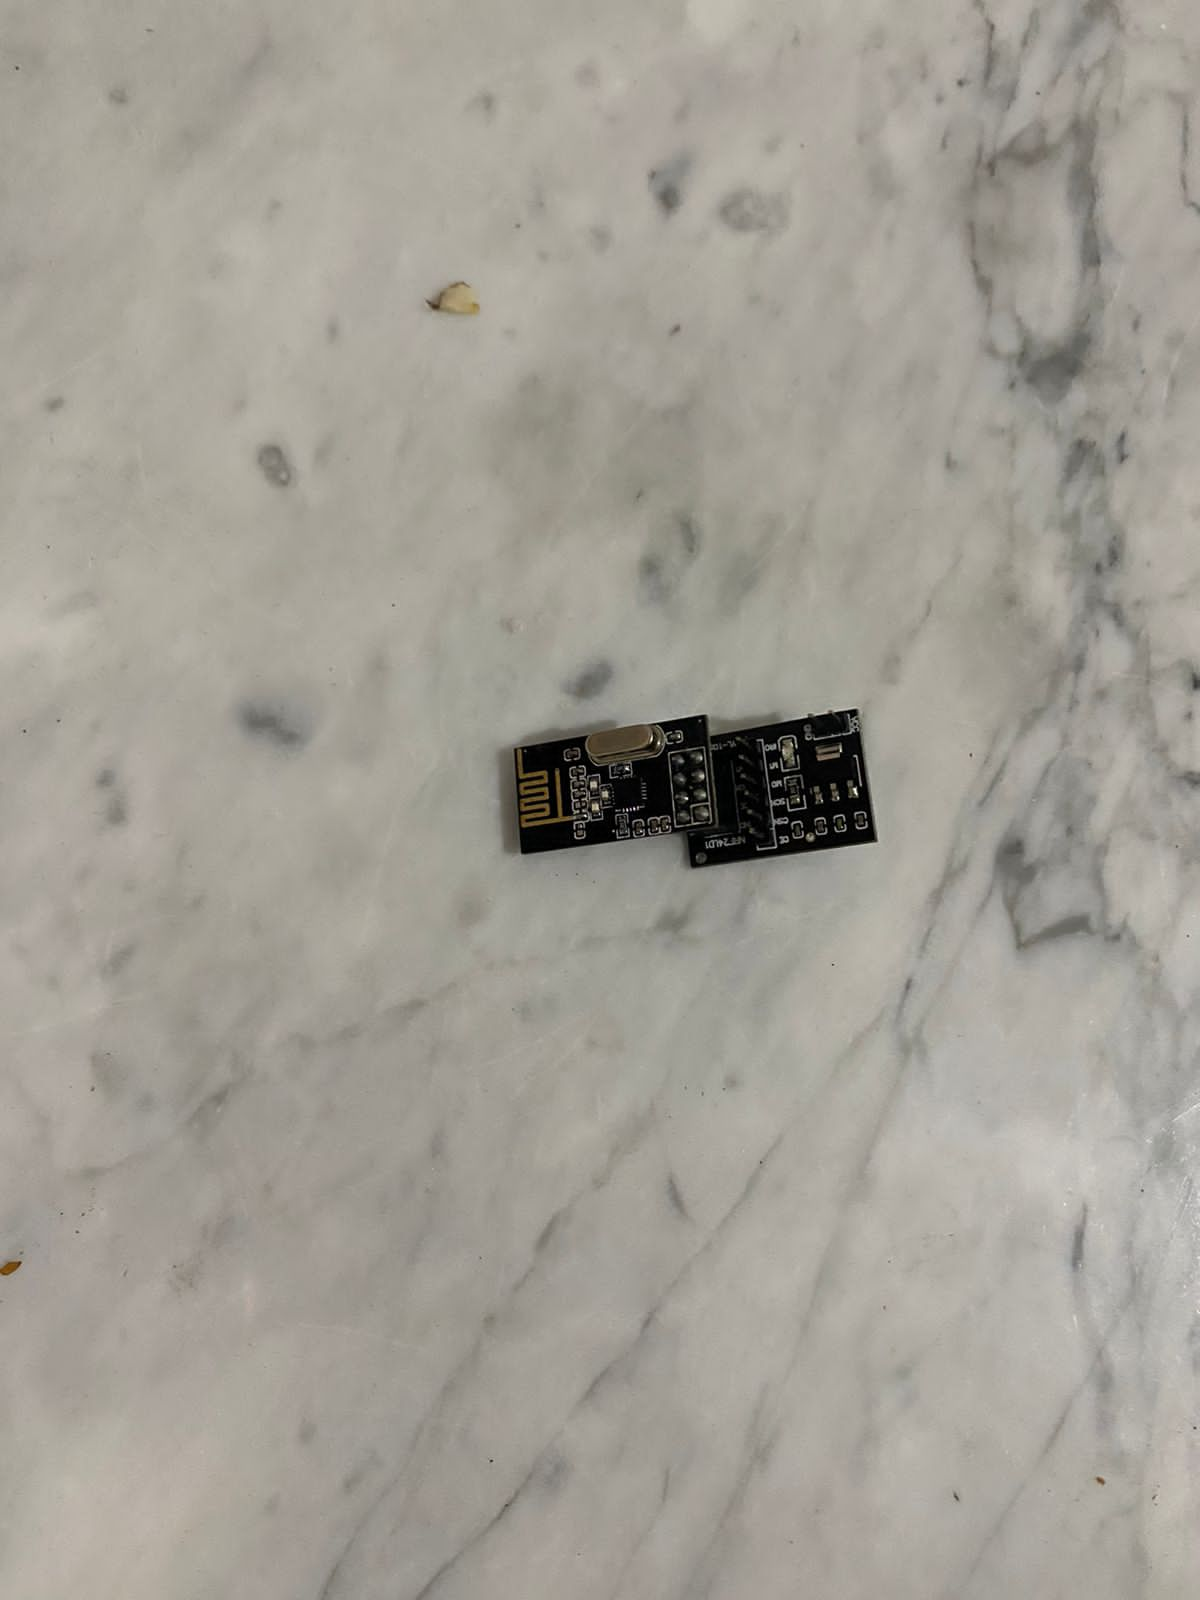RF-module: (502, 689, 894, 906)
